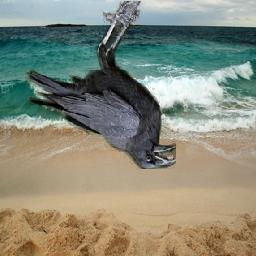Crow: (26, 1, 177, 169)
